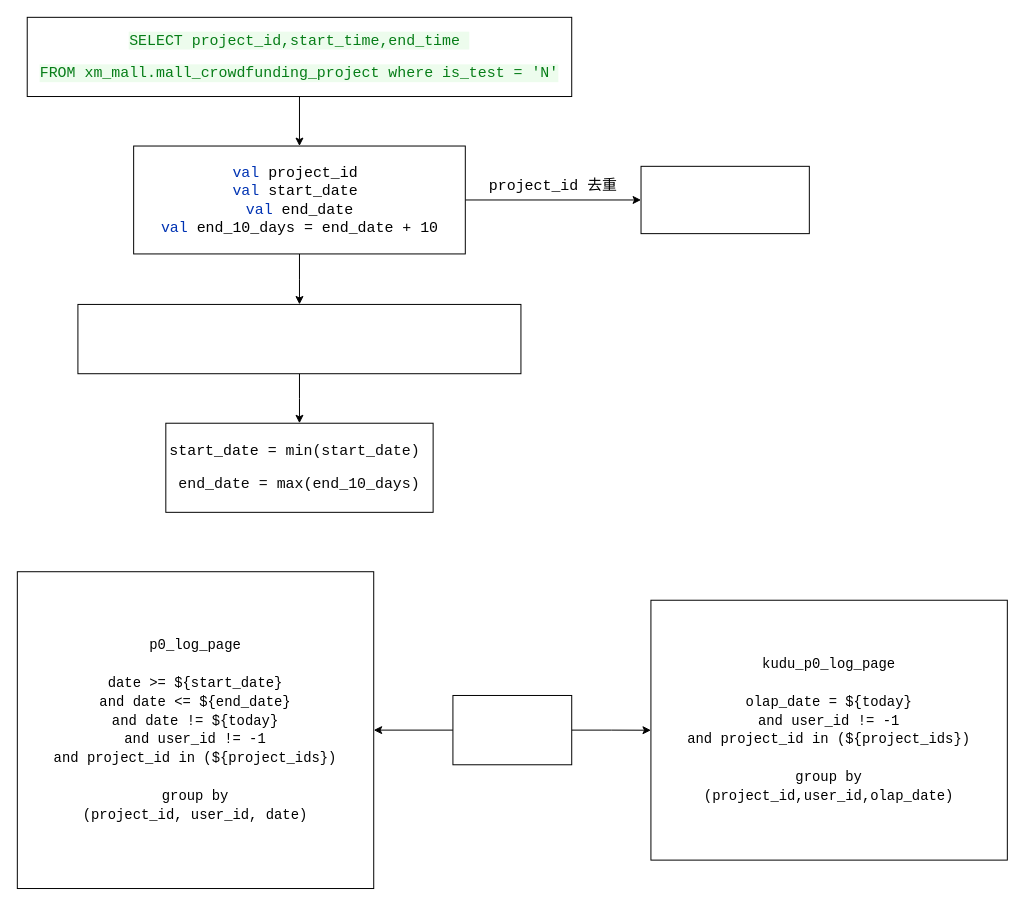
Image size: 1025x906. Some labels were removed from this diagram. Each missing label, with the box of its shape:
project_df .createOrReplaceTempView( "project_df" ): (77, 303, 521, 374)
project_ids: (640, 165, 809, 234)
union 浏览众筹数据: (452, 694, 572, 765)
